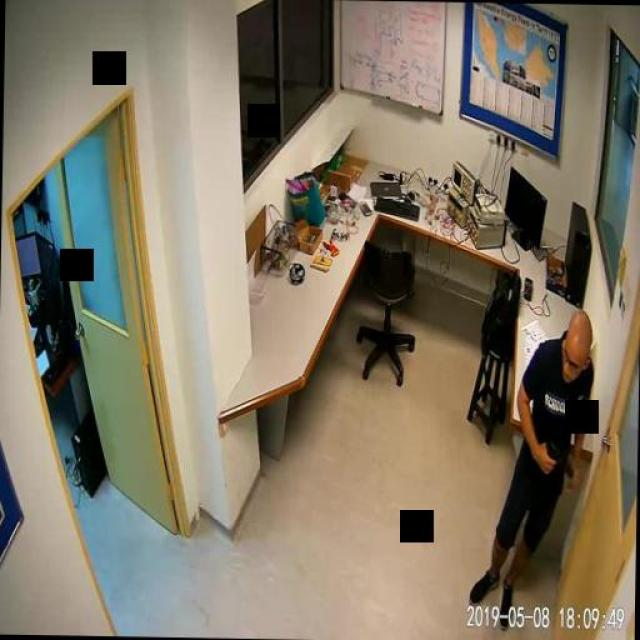gun: (541, 437, 574, 475)
